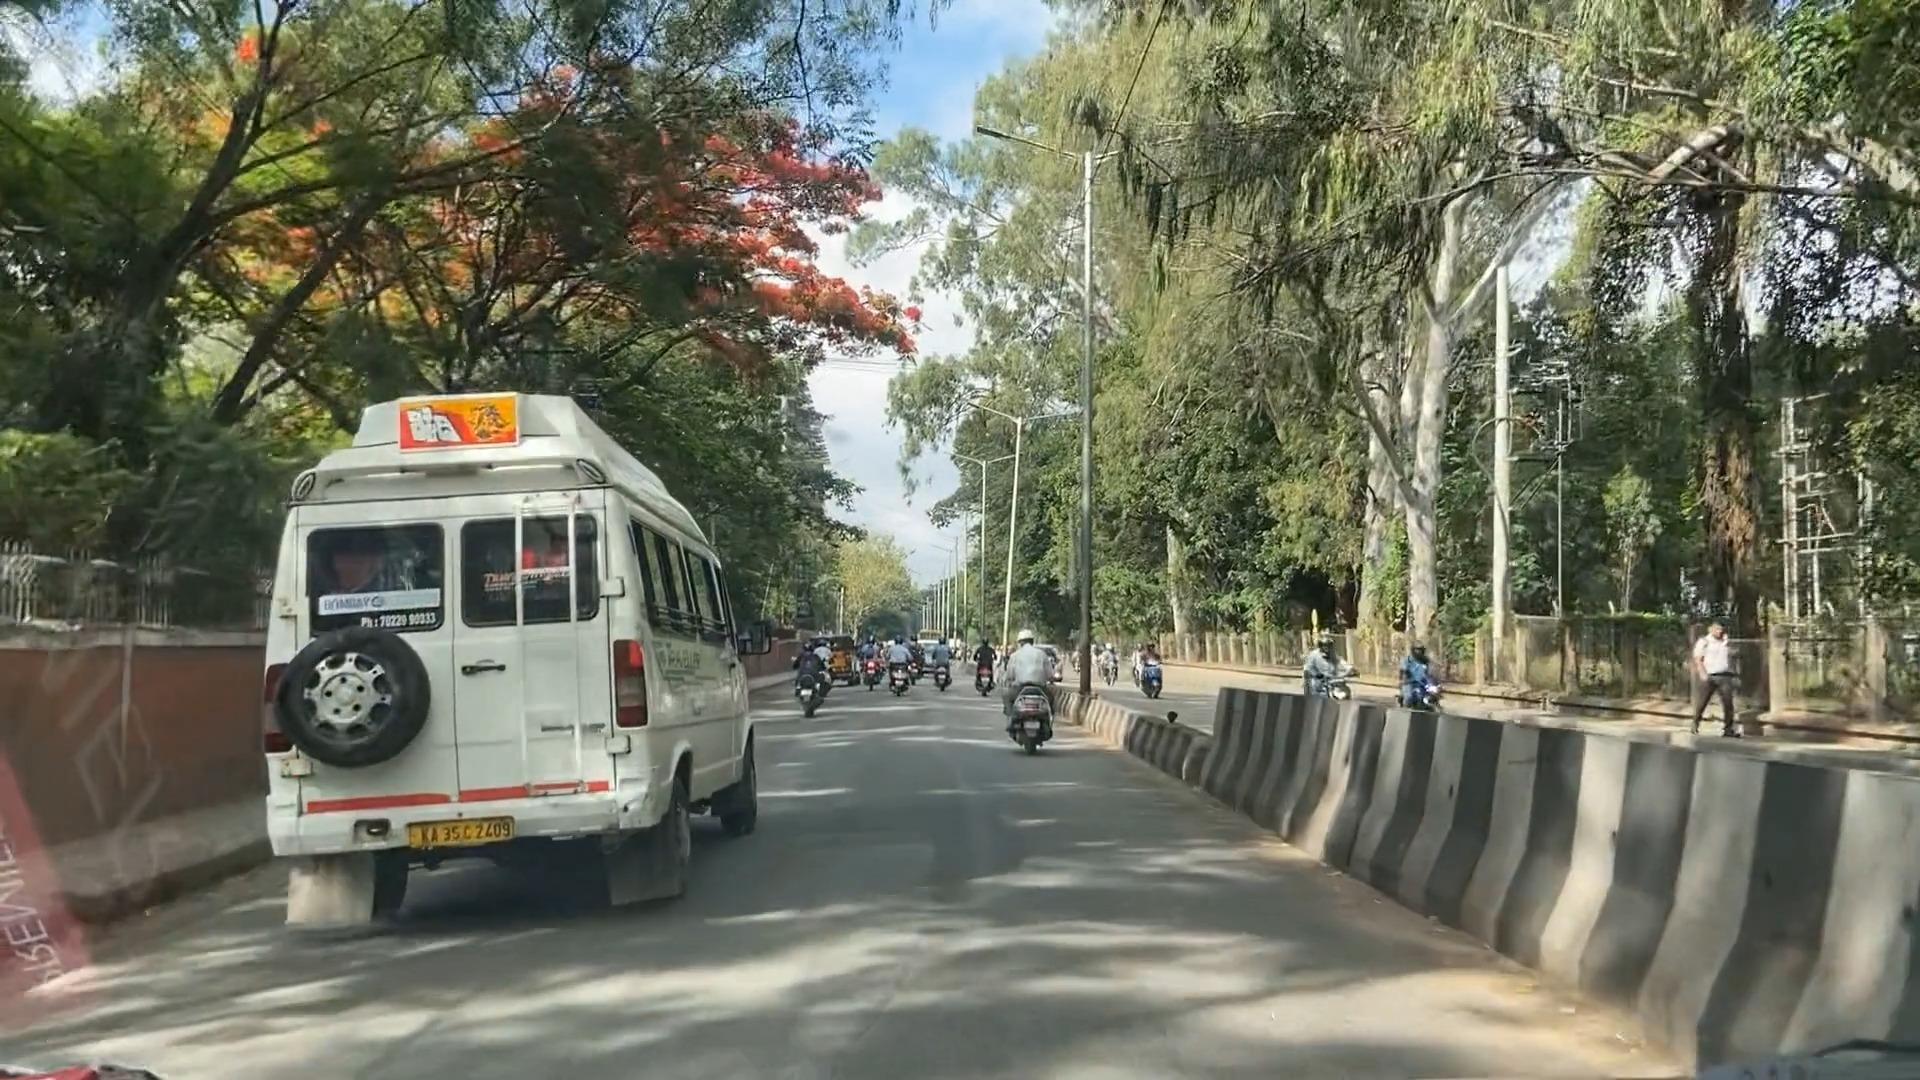HMV: (258, 407, 761, 918)
